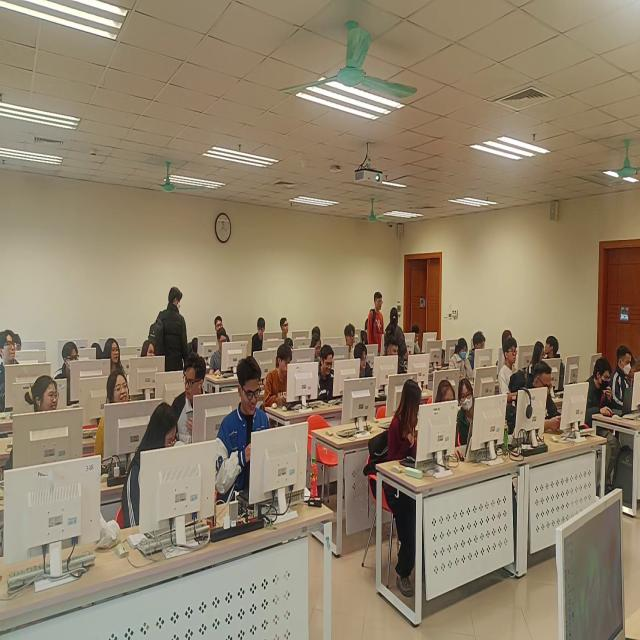raise_head: (21, 376, 73, 481), (99, 371, 138, 475), (497, 335, 526, 405), (1, 330, 24, 407), (138, 338, 165, 388), (103, 338, 129, 379), (343, 318, 362, 352), (277, 316, 295, 345)
stand: (150, 287, 188, 388)
using_computer: (120, 405, 199, 541), (221, 366, 284, 497), (524, 361, 581, 448), (583, 355, 624, 464), (265, 343, 307, 422), (432, 379, 466, 466), (608, 343, 640, 412), (57, 343, 93, 404), (314, 347, 347, 406), (209, 328, 240, 385), (353, 346, 387, 390), (384, 339, 417, 380), (450, 338, 479, 384), (367, 289, 386, 357), (468, 332, 493, 376), (410, 320, 435, 359), (526, 341, 549, 371), (308, 331, 322, 362)
